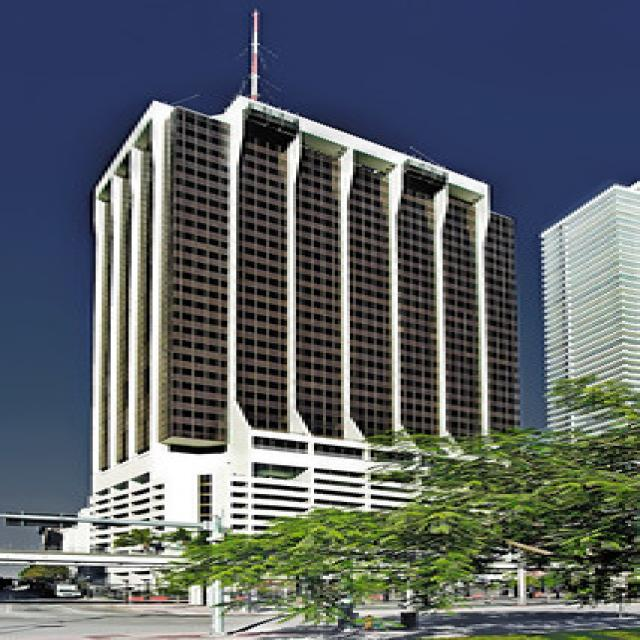building: (70, 91, 528, 586)
